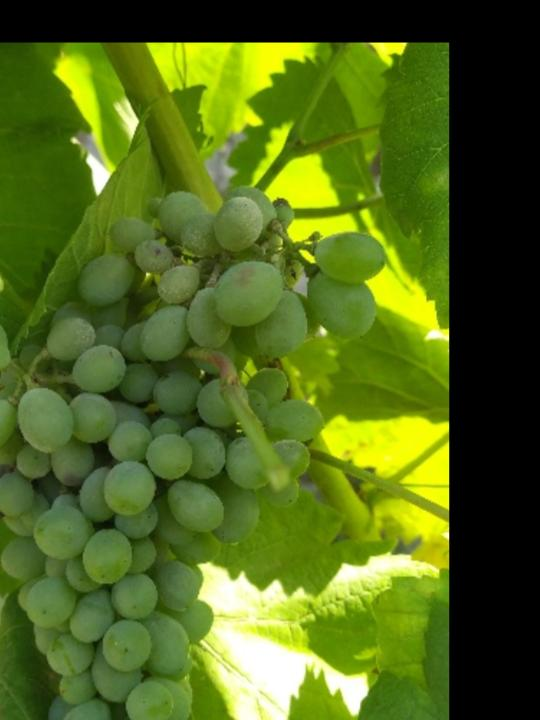grape: (0, 183, 395, 720), (425, 0, 484, 9)
